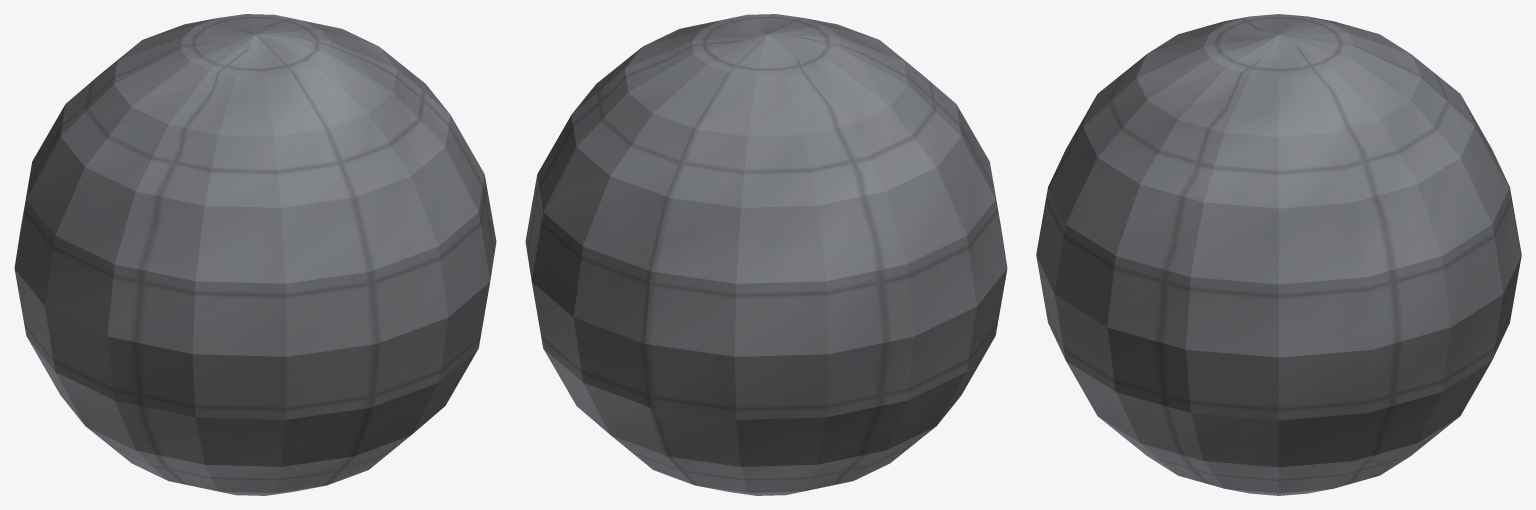
Rendered from pod.glb.
3 renders of one model, left to right at view 1: azimuth 30°, elevation 25°; view 2: azimuth 150°, elevation 25°; view 3: azimuth 270°, elevation 25°, orthographic.
Parts seen in each view (by area): view 1: pod; view 2: pod; view 3: pod.
Part boxes in pixels (<box>): pod: <box>14,14,496,495</box>; pod: <box>525,14,1007,495</box>; pod: <box>1036,14,1521,495</box>.
Size of the model in its own units: 2.8 by 2.8 by 2.8.
Materials: 1 (1 with a texture image).
